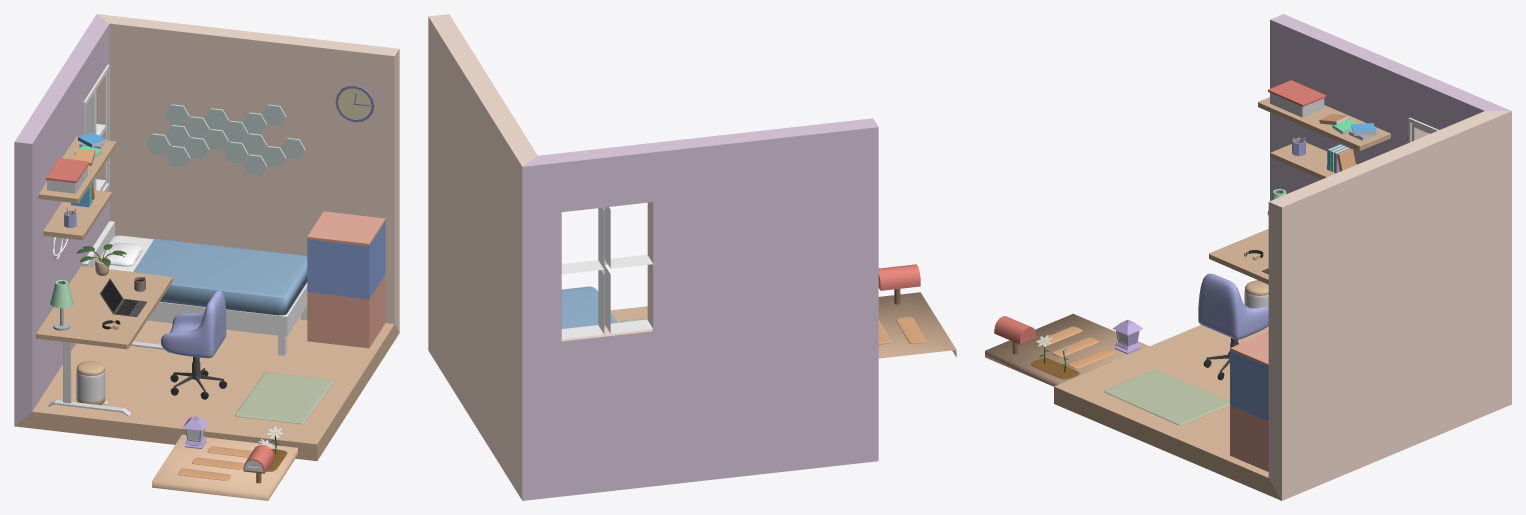
Rendered from room_1.glb.
3 renders of one model, left to right at view 1: azimuth 30°, elevation 25°; view 2: azimuth 150°, elevation 25°; view 3: azimuth 270°, elevation 25°, orthographic. The views are drawn at different scales.
Visible parts, largest first — view 1: roomcube, Cube.019, Cube, Cube.018, roomcube.001, tank, Plane.010, Cube.016, Cube.007, Cube.015, Plane, Cube.009 (+13 smaller); view 2: roomcube, Plane, roomcube.001, Cube.019, Cylinder.030; view 3: roomcube, roomcube.001, Plane.010, Cube.007, Cube.018, tank, Cube, Cube.009, box, Cube.015, Cylinder.030, Cube.012 (+2 smaller).
Boxes of the visible parts, x1=… form: roomcube: x1=14, y1=14, x2=399, y2=460; Cube.019: x1=133, y1=238, x2=307, y2=315; Cube: x1=36, y1=266, x2=172, y2=349; Cube.018: x1=307, y1=211, x2=385, y2=348; roomcube.001: x1=152, y1=434, x2=297, y2=500; tank: x1=307, y1=221, x2=385, y2=299; Plane.010: x1=235, y1=372, x2=333, y2=424; Cube.016: x1=82, y1=221, x2=307, y2=336; Cube.007: x1=161, y1=290, x2=226, y2=358; Cube.015: x1=43, y1=190, x2=111, y2=240; Plane: x1=83, y1=64, x2=109, y2=191; Cube.009: x1=38, y1=136, x2=116, y2=203; roomcube: x1=428, y1=14, x2=878, y2=500; Plane: x1=561, y1=205, x2=653, y2=339; roomcube.001: x1=878, y1=292, x2=956, y2=358; Cube.019: x1=561, y1=286, x2=617, y2=328; Cylinder.030: x1=878, y1=264, x2=920, y2=290; roomcube: x1=1054, y1=14, x2=1511, y2=500; roomcube.001: x1=985, y1=313, x2=1149, y2=386; Plane.010: x1=1104, y1=369, x2=1229, y2=425; Cube.007: x1=1198, y1=273, x2=1268, y2=339; Cube.018: x1=1230, y1=332, x2=1268, y2=471; tank: x1=1230, y1=350, x2=1268, y2=421; Cube: x1=1209, y1=229, x2=1268, y2=284; Cube.009: x1=1258, y1=97, x2=1390, y2=150; box: x1=1268, y1=80, x2=1326, y2=117; Cube.015: x1=1270, y1=142, x2=1357, y2=179; Cylinder.030: x1=994, y1=316, x2=1036, y2=344; Cube.012: x1=1327, y1=144, x2=1355, y2=173.
Bounding box in the file's own units: 14.61 × 10.33 × 16.81.
